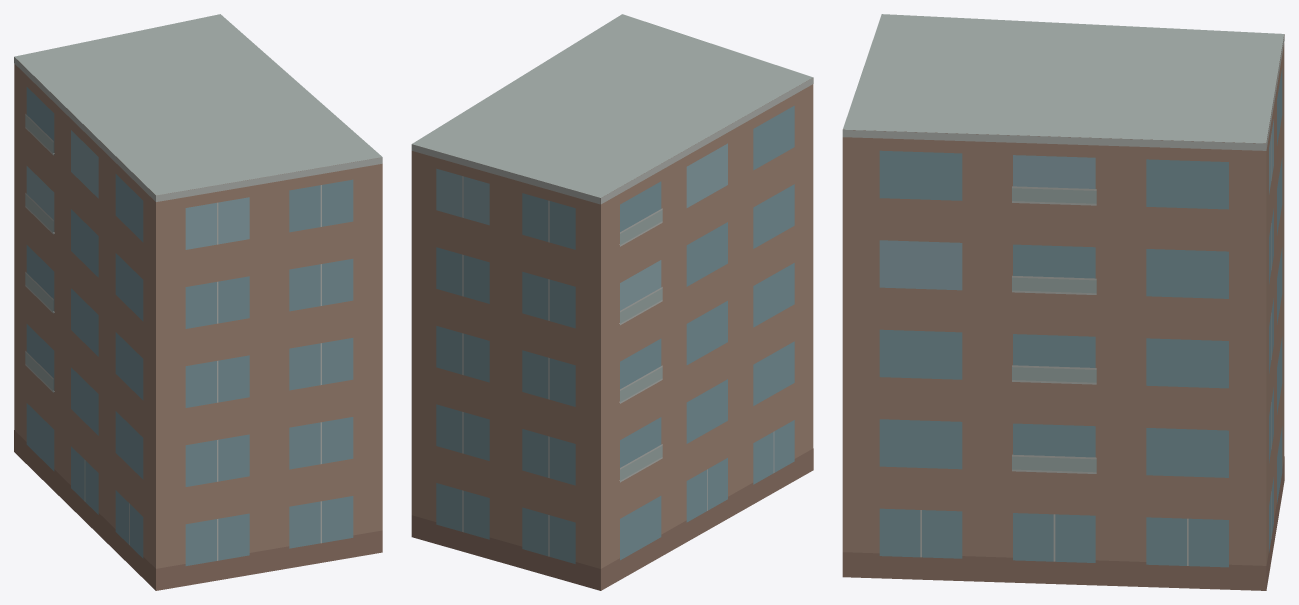
Rendered from survey-upis-33038695.glb.
3 views of the same model, side by side, from view 1: azimuth 30°, elevation 25°; view 2: azimuth 150°, elevation 25°; view 3: azimuth 270°, elevation 25° (orthographic). The views are drawn at different scales.
Parts seen in each view (by area): view 1: survey-upis-33038695.tmp; view 2: survey-upis-33038695.tmp; view 3: survey-upis-33038695.tmp.
Part boxes in pixels (left/top/right/bottom): survey-upis-33038695.tmp: left=14, top=14, right=382, bottom=590; survey-upis-33038695.tmp: left=411, top=14, right=813, bottom=590; survey-upis-33038695.tmp: left=842, top=14, right=1284, bottom=590.
Bounding box in the file's own units: 9.07 × 14.6 × 13.07.
